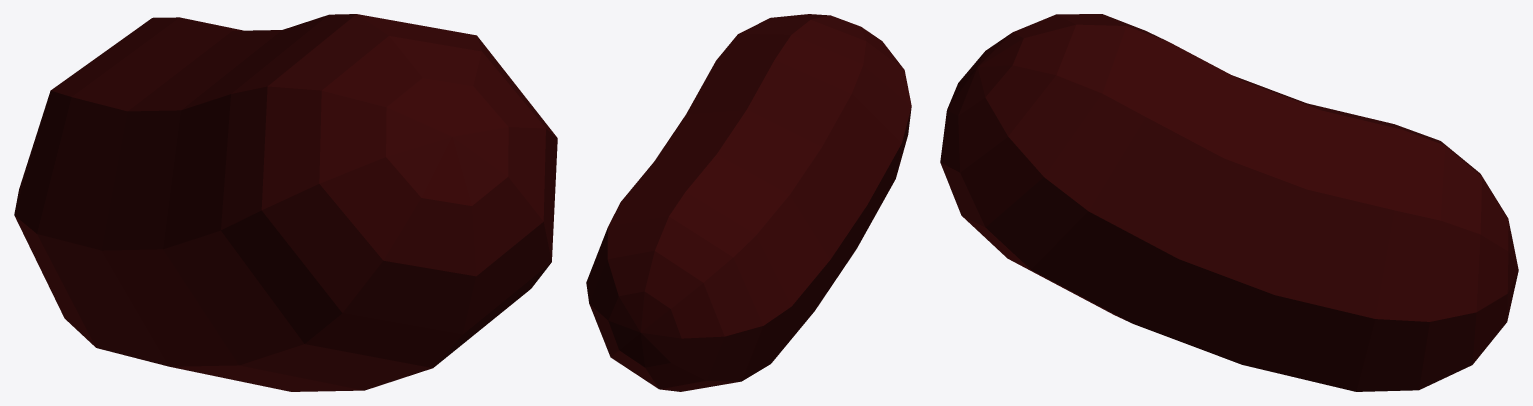
The model's file is Bacteria_Red.FBX.
3 renders of one model, left to right at view 1: azimuth 30°, elevation 25°; view 2: azimuth 150°, elevation 25°; view 3: azimuth 270°, elevation 25°, orthographic. The views are drawn at different scales.
Visible parts, largest first — view 1: Capsule001; view 2: Capsule001; view 3: Capsule001.
Part boxes in pixels (x1=…): Capsule001: x1=14, y1=14, x2=557, y2=391; Capsule001: x1=586, y1=14, x2=911, y2=391; Capsule001: x1=940, y1=14, x2=1518, y2=391.
Size of the model in its own units: 120 by 241 by 166.
